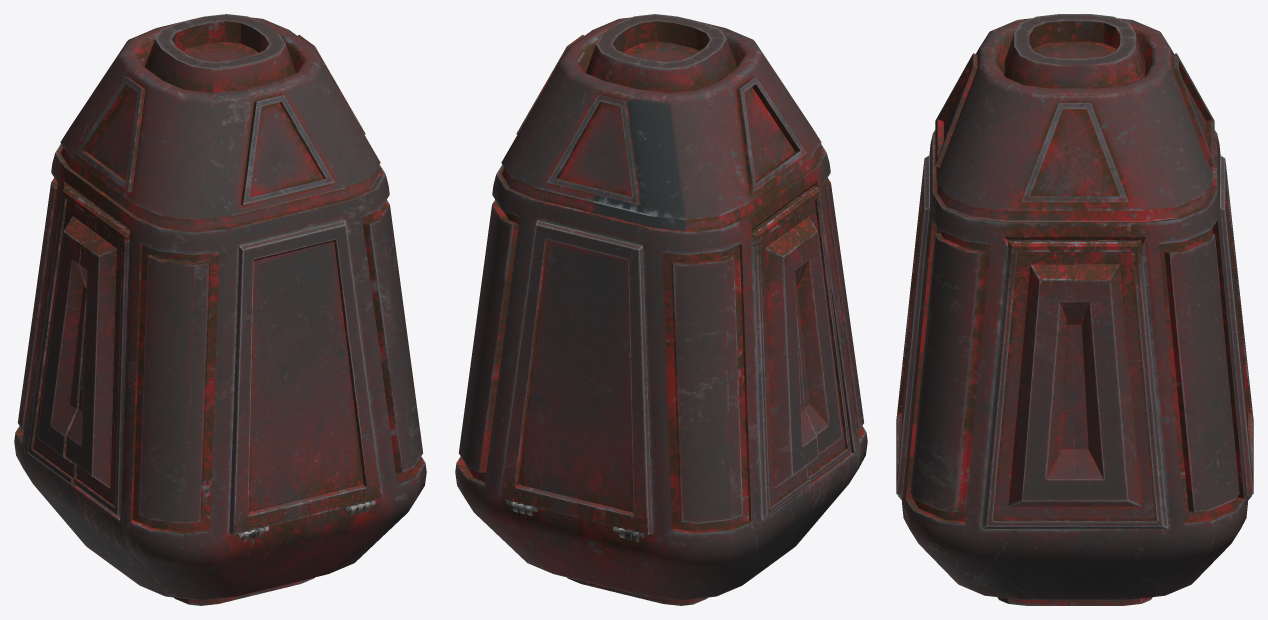
The model's file is DROPSS CAPS.fbx.
3 renders of one model, left to right at view 1: azimuth 30°, elevation 25°; view 2: azimuth 150°, elevation 25°; view 3: azimuth 270°, elevation 25°, orthographic.
Parts seen in each view (by area): view 1: копус, Cube.016, закрылки.001, закрылки; view 2: копус, Cube.015, закрылки, закрылки.001; view 3: копус, закрылки.002, закрылки.003, Cube.016, Cube.015.
Part boxes in pixels (bbox=[...]): копус: bbox=[14, 14, 426, 605]; Cube.016: bbox=[229, 220, 382, 534]; закрылки.001: bbox=[65, 210, 130, 517]; закрылки: bbox=[28, 186, 100, 486]; копус: bbox=[455, 14, 867, 605]; Cube.015: bbox=[499, 220, 652, 534]; закрылки: bbox=[751, 210, 818, 520]; закрылки.001: bbox=[781, 186, 851, 481]; копус: bbox=[902, 14, 1247, 605]; закрылки.002: bbox=[1075, 240, 1168, 528]; закрылки.003: bbox=[981, 240, 1074, 528]; Cube.016: bbox=[896, 155, 929, 495]; Cube.015: bbox=[1220, 155, 1253, 495].
Bounding box in the file's own units: 332 × 533 × 321.
Materials: 18 (17 with a texture image).
